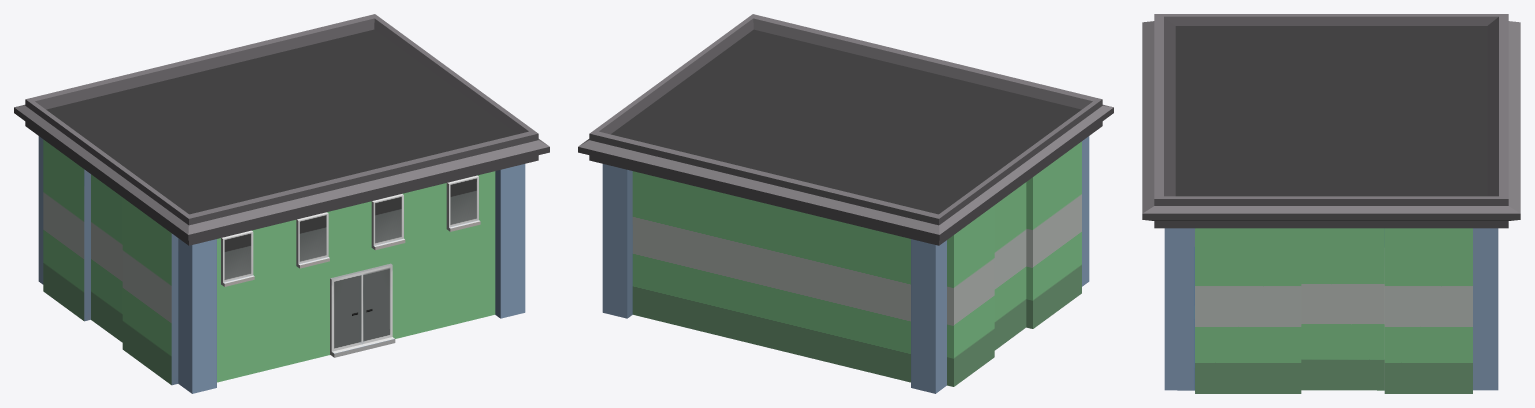
The model's file is Green Apartment.fbx.
3 views of the same model, side by side, from view 1: azimuth 30°, elevation 25°; view 2: azimuth 150°, elevation 25°; view 3: azimuth 270°, elevation 25° (orthographic). The views are drawn at different scales.
Parts seen in each view (by area): view 1: Green Apartment; view 2: Green Apartment; view 3: Green Apartment.
Boxes of the visible parts, left/top/right/bottom form: Green Apartment: left=14, top=14, right=549, bottom=393; Green Apartment: left=578, top=14, right=1113, bottom=393; Green Apartment: left=1142, top=14, right=1520, bottom=393.
Size of the model in its own units: 336 by 160 by 281.
